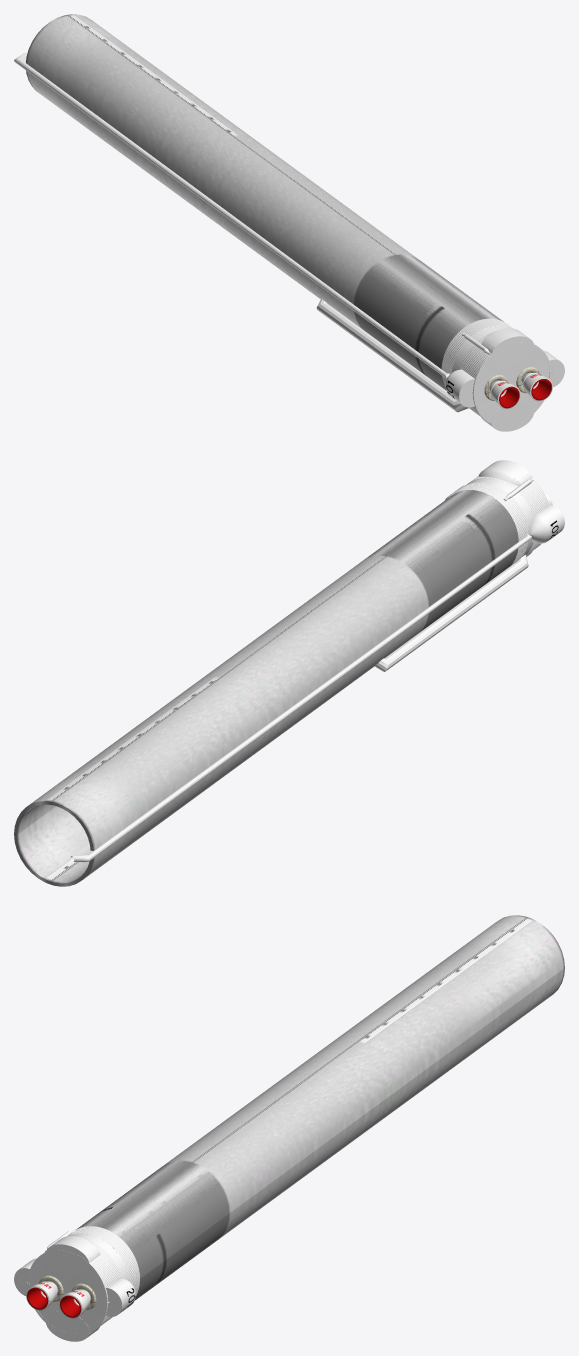
File: atlasiii_stg1.obj
3 views of the same model, one above another, from view 1: azimuth 30°, elevation 25°; view 2: azimuth 150°, elevation 25°; view 3: azimuth 330°, elevation 25° (orthographic). The views are drawn at different scales.
Visible parts, largest first — view 1: group2, group3, group9, group23, group22, group6, group7, group8, group4; view 2: group2, group3, group9, group23, group22, group4, group7; view 3: group2, group3, group23, group6, group7, group8, group5.
Boxes of the visible parts, box(x1,y1,x2,y2) form: group2: box(26, 14, 503, 368); group3: box(26, 70, 446, 390); group9: box(14, 52, 449, 378); group23: box(441, 318, 551, 425); group22: box(316, 298, 468, 412); group6: box(475, 347, 549, 420); group7: box(481, 328, 533, 366); group8: box(481, 402, 533, 431); group4: box(445, 369, 474, 407); group2: box(14, 490, 518, 850); group3: box(14, 548, 518, 886); group9: box(70, 534, 531, 861); group23: box(450, 476, 549, 565); group22: box(375, 554, 528, 671); group4: box(529, 505, 564, 543); group7: box(478, 460, 532, 485); group2: box(76, 915, 564, 1278); group3: box(134, 968, 564, 1300); group23: box(27, 1226, 139, 1335); group6: box(29, 1255, 105, 1330); group7: box(46, 1236, 100, 1274); group8: box(46, 1311, 99, 1341); group5: box(106, 1278, 135, 1316).
Size of the model in its own units: 4.04 by 3.41 by 31.2.
9 materials, 4 textured.
